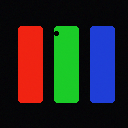0 point: (54, 31, 58, 35)
